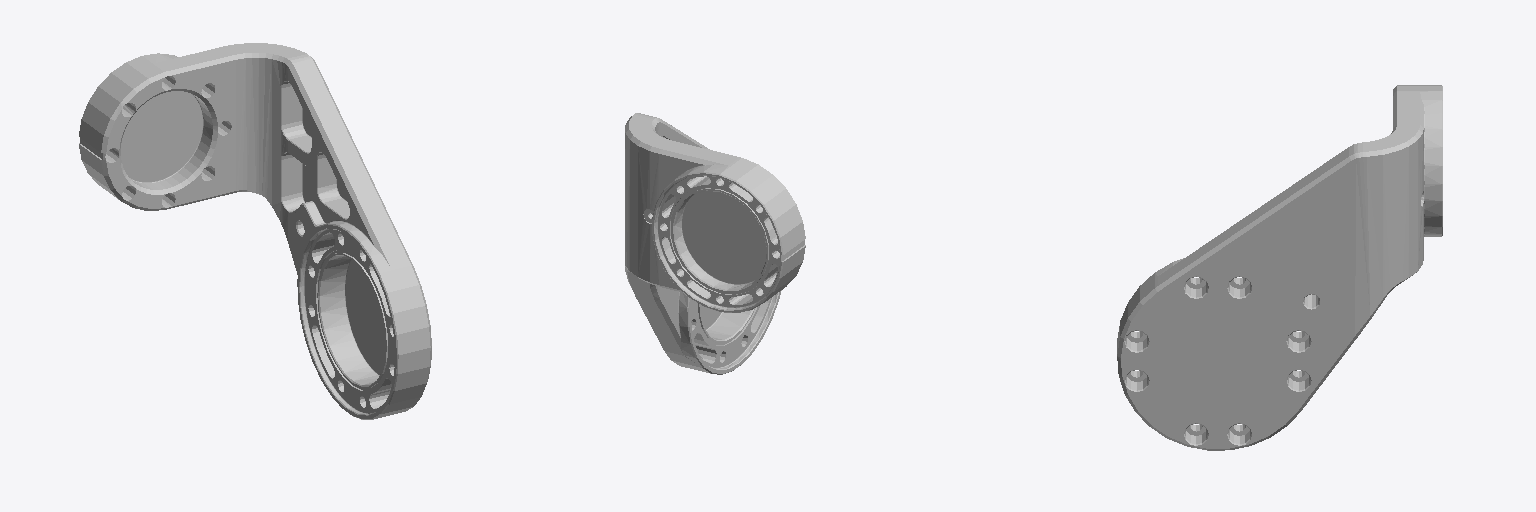
The model's file is left_upper_arm_roll_link.obj.
The picture shows the model from 3 angles: view 1: azimuth 30°, elevation 25°; view 2: azimuth 150°, elevation 25°; view 3: azimuth 270°, elevation 25°; orthographic projection.
Visible parts, largest first — view 1: left_upper_arm_roll_link; view 2: left_upper_arm_roll_link; view 3: left_upper_arm_roll_link.
Part boxes in pixels (left/top/right/bottom): left_upper_arm_roll_link: left=79, top=43, right=431, bottom=419; left_upper_arm_roll_link: left=625, top=113, right=805, bottom=374; left_upper_arm_roll_link: left=1117, top=85, right=1442, bottom=450.
Size of the model in its own units: 0.0585 by 0.0864 by 0.0855.